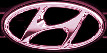Hyundai: (1, 1, 106, 52)
